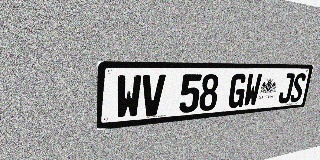5: (179, 74, 202, 113)
8: (198, 74, 220, 111)
G: (227, 74, 248, 109)
J: (277, 73, 295, 104)
S: (289, 73, 307, 103)
V: (140, 74, 166, 117)
W: (115, 75, 142, 119), (243, 73, 262, 107)
